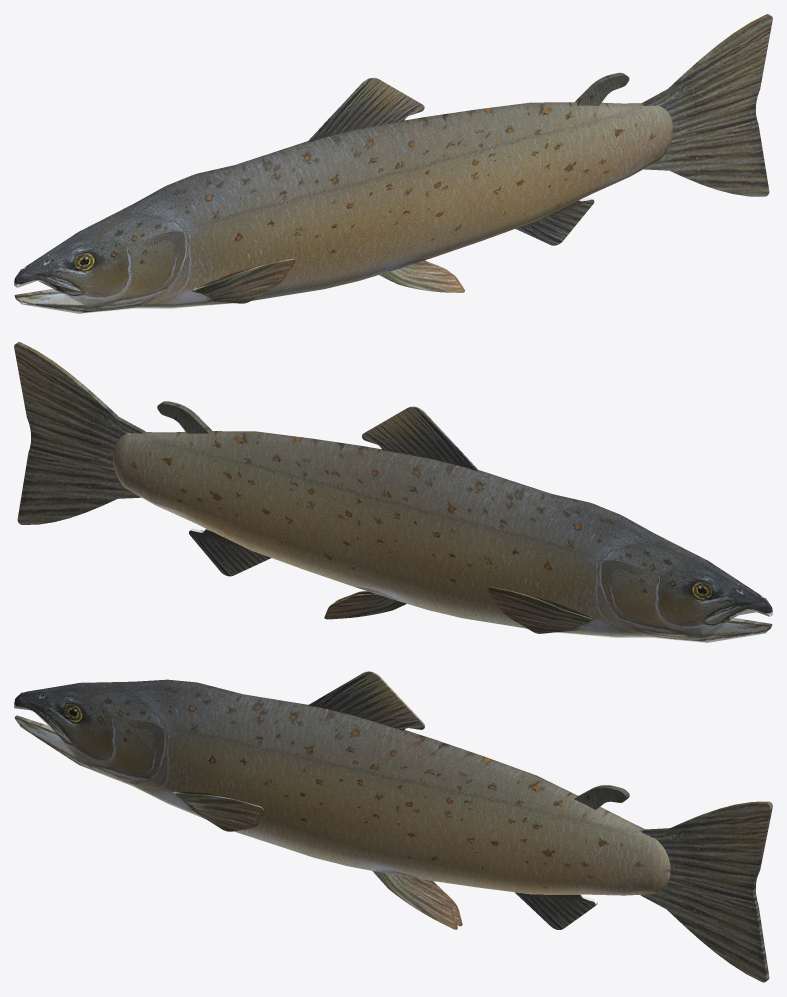
File: Atlantic salmon.fbx
The picture shows the model from 3 angles, top to bottom: view 1: azimuth 30°, elevation 25°; view 2: azimuth 150°, elevation 25°; view 3: azimuth 330°, elevation 25°; orthographic projection.
Parts seen in each view (by area): view 1: Line008, Line002, Line005, Line011, Line012, Line009, Line003; view 2: Line008, Line002, Line005, Line010, Line009, Line013, Line003; view 3: Line008, Line002, Line005, Line011, Line012, Line009, Line003.
Part boxes in pixels (<box>): Line008: <box>14,102,673,313</box>; Line002: <box>641,14,772,196</box>; Line005: <box>307,77,424,142</box>; Line011: <box>191,258,295,303</box>; Line012: <box>379,262,464,292</box>; Line009: <box>515,197,594,245</box>; Line003: <box>575,72,629,105</box>; Line008: <box>113,431,772,642</box>; Line002: <box>14,342,145,524</box>; Line005: <box>362,406,478,471</box>; Line010: <box>488,587,592,633</box>; Line009: <box>189,528,270,576</box>; Line013: <box>324,593,406,619</box>; Line003: <box>157,401,211,433</box>; Line008: <box>14,679,670,895</box>; Line002: <box>640,801,772,982</box>; Line005: <box>308,671,424,730</box>; Line011: <box>172,792,263,831</box>; Line012: <box>372,870,457,929</box>; Line009: <box>515,892,597,929</box>; Line003: <box>574,785,629,809</box>.
Bounding box in the file's own units: 1003 × 295 × 77.8.
Materials: 2 (2 with a texture image).
